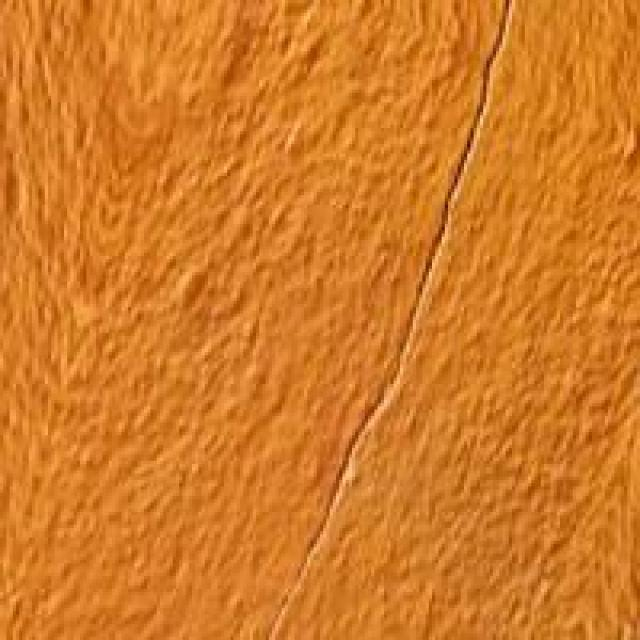crack: (304, 0, 528, 630)
